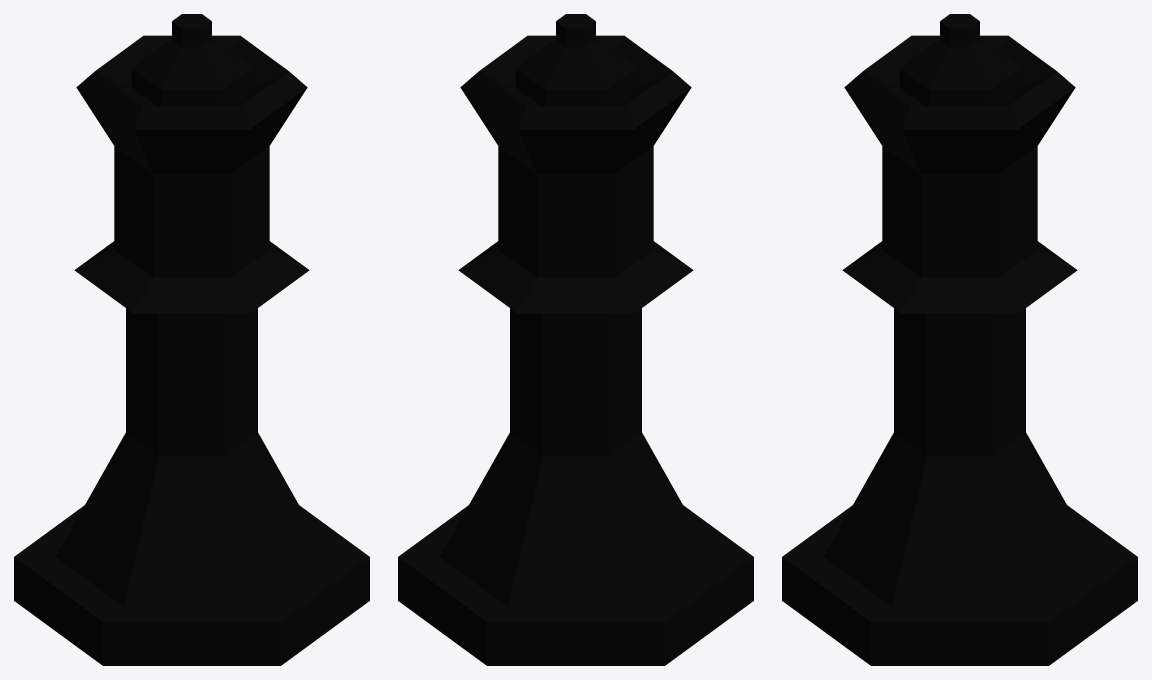
File: chesspiecequeen02.gltf
The picture shows the model from 3 angles, left to right: view 1: azimuth 30°, elevation 25°; view 2: azimuth 150°, elevation 25°; view 3: azimuth 270°, elevation 25°; orthographic projection.
Parts seen in each view (by area): view 1: Cylinder.001; view 2: Cylinder.001; view 3: Cylinder.001.
Part boxes in pixels (x1,y1,x2,y2): Cylinder.001: [14, 14, 369, 665]; Cylinder.001: [398, 14, 753, 665]; Cylinder.001: [782, 14, 1137, 665].
Bounding box in the file's own units: 0.0225 × 0.0467 × 0.026.
1 material, 1 textured.
